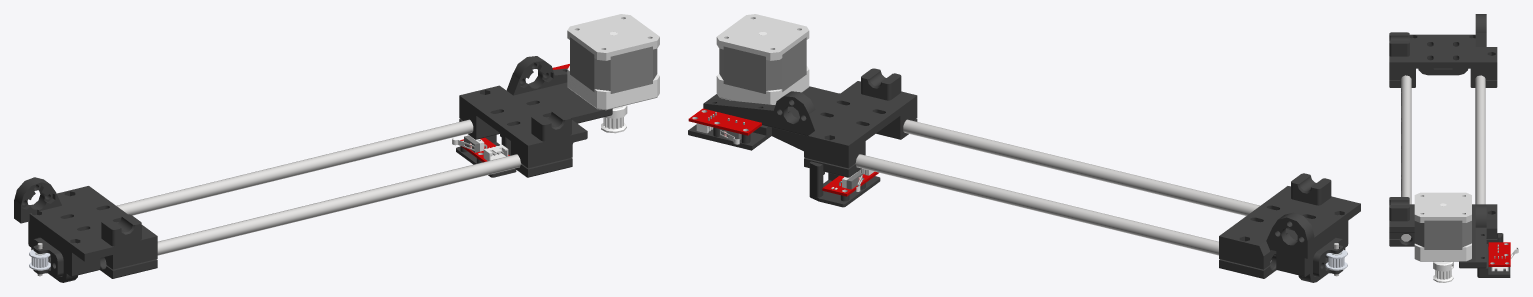
The picture shows the model from 3 angles, left to right: view 1: azimuth 30°, elevation 25°; view 2: azimuth 150°, elevation 25°; view 3: azimuth 270°, elevation 25°; orthographic projection. The views are drawn at different scales.
Parts seen in each view (by area): view 1: Solid5:1, Solid5, Solid1:1, Solid1, Solid1:3, Solid1:2, Solid1:4, Solid5:30, Solid5:33, Solid5:32, Solid6:1, Solid5:29 (+2 smaller); view 2: Solid5:1, Solid5, Solid1, Solid1:1, Solid1:3, Solid1:2, Solid6, Solid5:30, Solid1:4, Solid6:2, Solid5:33, Solid5:32 (+3 smaller); view 3: Solid5, Solid5:1, Solid1:2, Solid1:3, Solid1:1, Solid1, Solid1:4, Solid6, Solid5:32, Solid5:33, Solid1:6, Solid5:3 (+1 smaller).
Part boxes in pixels (x1,y1,x2,y2): Solid5:1: (459, 56, 612, 177); Solid5: (14, 177, 157, 278); Solid1:1: (105, 154, 521, 262); Solid1: (116, 119, 473, 215); Solid1:3: (570, 37, 657, 93); Solid1:2: (567, 14, 659, 60); Solid1:4: (567, 66, 659, 110); Solid5:30: (28, 221, 100, 282); Solid5:33: (531, 109, 571, 141); Solid5:32: (101, 214, 141, 246); Solid6:1: (460, 135, 509, 162); Solid5:29: (31, 237, 63, 277); Solid5:1: (703, 81, 917, 177); Solid5: (1219, 186, 1360, 278); Solid1: (855, 154, 1271, 262); Solid1:1: (903, 119, 1259, 215); Solid1:3: (719, 37, 806, 93); Solid1:2: (716, 14, 809, 60); Solid6: (688, 108, 761, 139); Solid5:30: (1276, 221, 1348, 282); Solid1:4: (716, 66, 809, 104); Solid6:2: (809, 161, 880, 207); Solid5:33: (861, 68, 901, 100); Solid5:32: (1291, 173, 1331, 205); Solid5: (1389, 14, 1497, 87); Solid5:1: (1389, 204, 1497, 268); Solid1:2: (1414, 192, 1471, 222); Solid1:3: (1414, 220, 1471, 249); Solid1:1: (1401, 75, 1411, 241); Solid1: (1475, 75, 1485, 204); Solid1:4: (1414, 243, 1471, 261); Solid6: (1488, 242, 1510, 271); Solid5:32: (1389, 32, 1409, 56); Solid5:33: (1389, 197, 1409, 221); Solid1:6: (1433, 261, 1453, 282); Solid5:3: (1477, 244, 1510, 277).
Size of the model in its own units: 0.4127 by 0.0747 by 0.0958.
